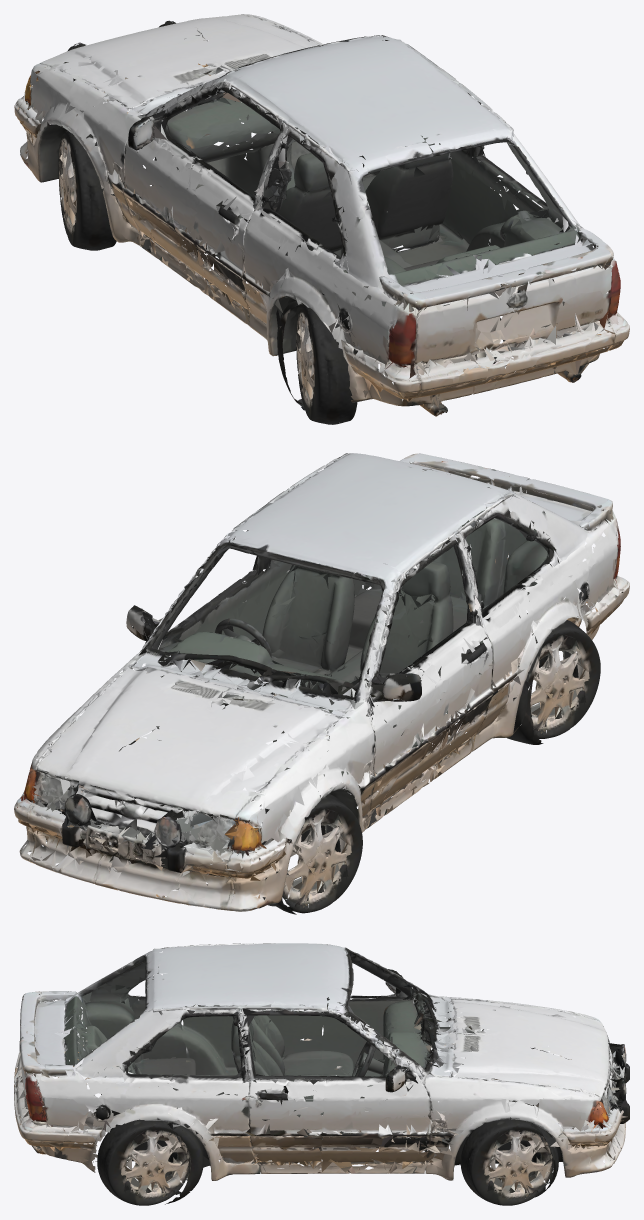
Rendered from ford_escort_rs_turbo.glb.
3 views of the same model, one above another, from view 1: azimuth 30°, elevation 25°; view 2: azimuth 150°, elevation 25°; view 3: azimuth 270°, elevation 25° (orthographic). The views are drawn at different scales.
Parts seen in each view (by area): view 1: Car_Shell, Car_Wheel_LR, Car_Wheel_LF; view 2: Car_Shell, Car_Wheel_LF, Car_Wheel_LR, Car_SteeringWheel; view 3: Car_Shell, Car_Wheel_RF, Car_Wheel_RR, Car_SteeringWheel.
Part boxes in pixels (box(x1,y1,x2,y2)): Car_Shell: box(14, 14, 629, 416); Car_Wheel_LR: box(296, 304, 357, 424); Car_Wheel_LF: box(58, 131, 117, 250); Car_Shell: box(14, 453, 629, 914); Car_Wheel_LF: box(262, 794, 362, 913); Car_Wheel_LR: box(514, 620, 600, 738); Car_SteeringWheel: box(198, 618, 271, 680); Car_Shell: box(14, 943, 629, 1204); Car_Wheel_RF: box(460, 1117, 553, 1205); Car_Wheel_RR: box(97, 1119, 190, 1205); Car_SteeringWheel: box(352, 1034, 391, 1076).
Bounding box in the file's own units: 1.72 × 1.41 × 4.09.
1 material, 1 textured.
